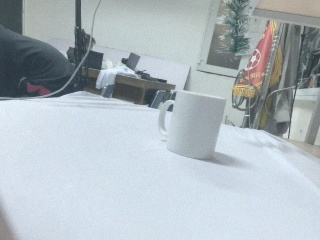cup: (157, 82, 227, 165)
